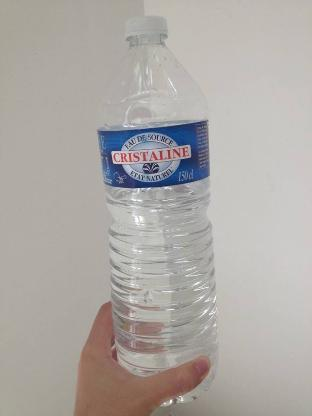Plastic Bottle: (96, 14, 219, 406)
